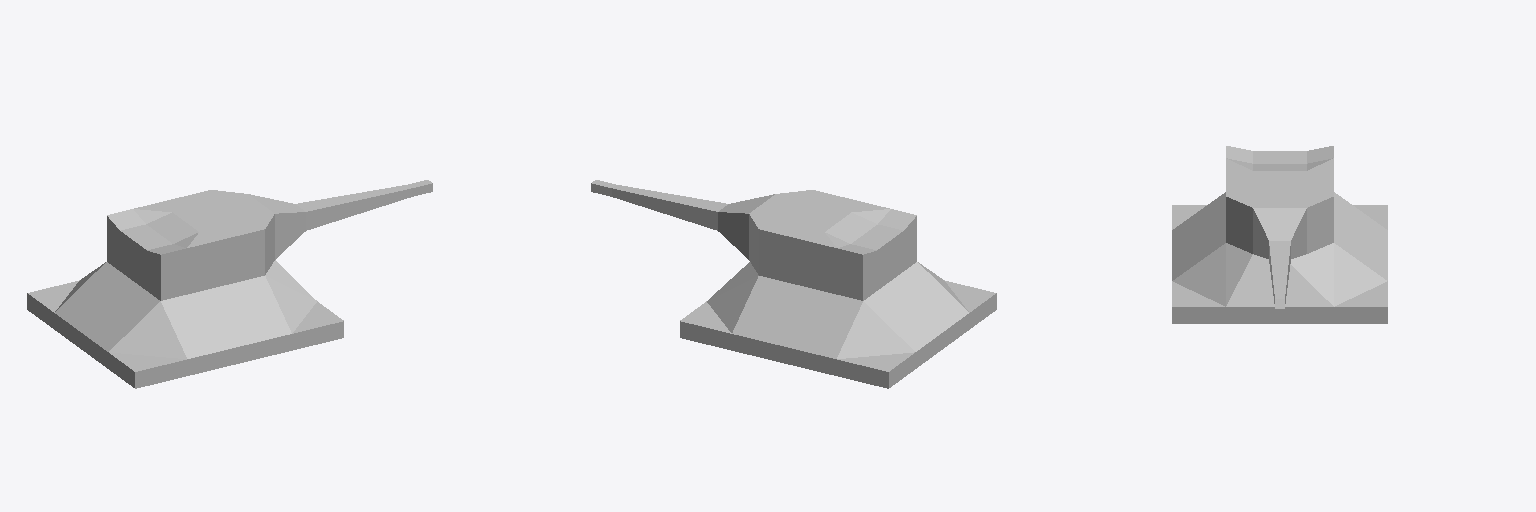
File: tanktop.obj
3 views of the same model, side by side, from view 1: azimuth 30°, elevation 25°; view 2: azimuth 150°, elevation 25°; view 3: azimuth 270°, elevation 25° (orthographic).
Parts seen in each view (by area): view 1: pCube1; view 2: pCube1; view 3: pCube1.
Boxes of the visible parts, x1=… form: pCube1: x1=27, y1=180, x2=432, y2=388; pCube1: x1=591, y1=180, x2=996, y2=388; pCube1: x1=1172, y1=146, x2=1387, y2=323.
Size of the model in its own units: 3.84 by 1.07 by 2.05.